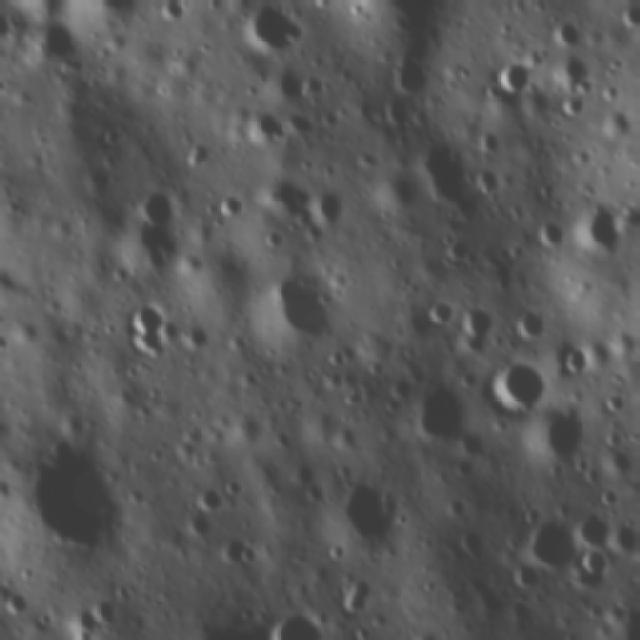crater: (18, 447, 112, 542), (267, 257, 336, 345), (345, 476, 400, 542), (411, 147, 474, 204), (411, 381, 467, 445), (236, 0, 306, 48), (571, 198, 632, 251), (494, 358, 548, 414), (523, 510, 575, 568), (522, 412, 583, 461), (256, 607, 337, 640), (34, 21, 84, 67), (125, 297, 162, 354), (133, 183, 184, 222), (461, 309, 501, 351), (89, 0, 151, 26), (306, 185, 348, 220), (246, 107, 285, 144), (390, 56, 436, 86), (602, 322, 636, 362), (578, 547, 613, 584), (531, 215, 566, 251), (498, 58, 533, 93), (561, 346, 594, 382), (344, 567, 371, 610), (603, 102, 637, 136), (611, 517, 640, 555), (209, 193, 248, 221), (584, 509, 613, 546), (461, 524, 492, 558), (563, 52, 592, 88), (387, 97, 421, 126), (438, 235, 474, 262), (560, 91, 597, 117), (428, 297, 459, 328), (6, 582, 34, 616), (477, 126, 506, 156), (518, 309, 544, 342), (184, 138, 216, 164), (230, 542, 265, 564), (154, 0, 189, 22), (598, 483, 628, 508), (187, 321, 215, 347), (187, 512, 219, 534), (94, 594, 120, 621), (197, 485, 228, 506), (478, 170, 504, 193), (605, 391, 632, 412), (160, 314, 183, 337), (352, 618, 374, 640), (221, 476, 247, 493), (624, 3, 640, 25), (0, 330, 14, 355), (458, 456, 472, 478)
